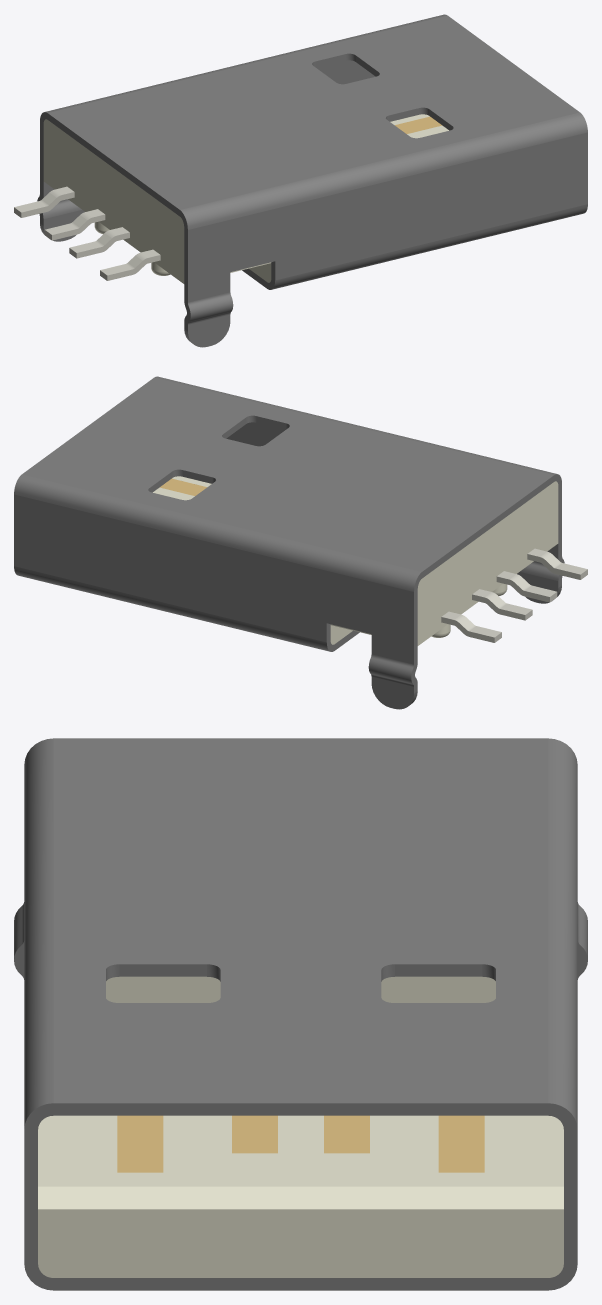
The model's file is kc-usb_a_cnctech_1001-011-01101_horizontal.glb.
3 renders of one model, top to bottom at view 1: azimuth 30°, elevation 25°; view 2: azimuth 150°, elevation 25°; view 3: azimuth 270°, elevation 25°, orthographic. The views are drawn at different scales.
Visible parts, largest first — view 1: 0.25_0.25_0.25_0, 0.75_0.75_0.6666666666666666_0, 0.6666666666666666_0.6666666666666666_0.5833333333333334_0.8, 0.75_0.5_0.25_0.9; view 2: 0.25_0.25_0.25_0, 0.75_0.75_0.6666666666666666_0, 0.6666666666666666_0.6666666666666666_0.5833333333333334_0.8, 0.75_0.5_0.25_0.9; view 3: 0.25_0.25_0.25_0, 0.75_0.75_0.6666666666666666_0, 0.75_0.5_0.25_0.9.
Boxes of the visible parts, <box> form: 0.25_0.25_0.25_0: <box>37,14,587,347</box>; 0.75_0.75_0.6666666666666666_0: <box>43,114,448,283</box>; 0.6666666666666666_0.6666666666666666_0.5833333333333334_0.8: <box>14,186,160,280</box>; 0.75_0.5_0.25_0.9: <box>395,116,441,133</box>; 0.25_0.25_0.25_0: <box>14,376,564,709</box>; 0.75_0.75_0.6666666666666666_0: <box>153,476,558,645</box>; 0.6666666666666666_0.6666666666666666_0.5833333333333334_0.8: <box>441,548,587,642</box>; 0.75_0.5_0.25_0.9: <box>160,478,206,495</box>; 0.25_0.25_0.25_0: <box>14,738,587,1290</box>; 0.75_0.75_0.6666666666666666_0: <box>38,976,563,1277</box>; 0.75_0.5_0.25_0.9: <box>117,1115,484,1172</box>.
Bounding box in the file's own units: 2.13 × 0.6101 × 1.25.
